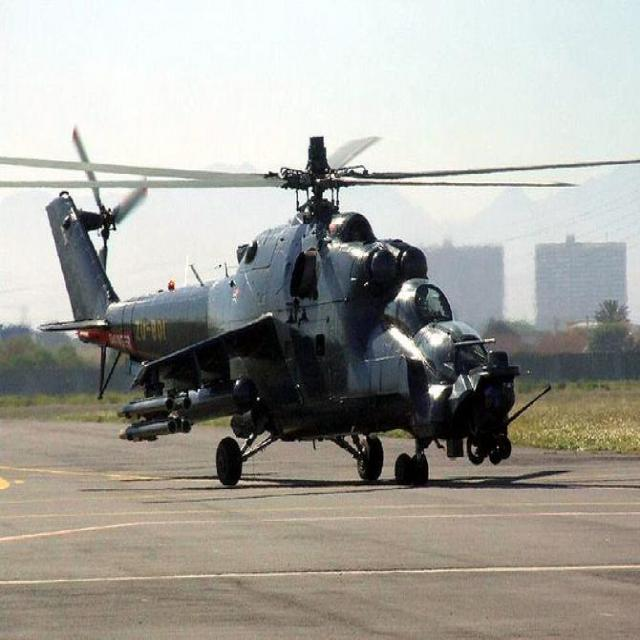MIL_HELO: (1, 127, 640, 505)
